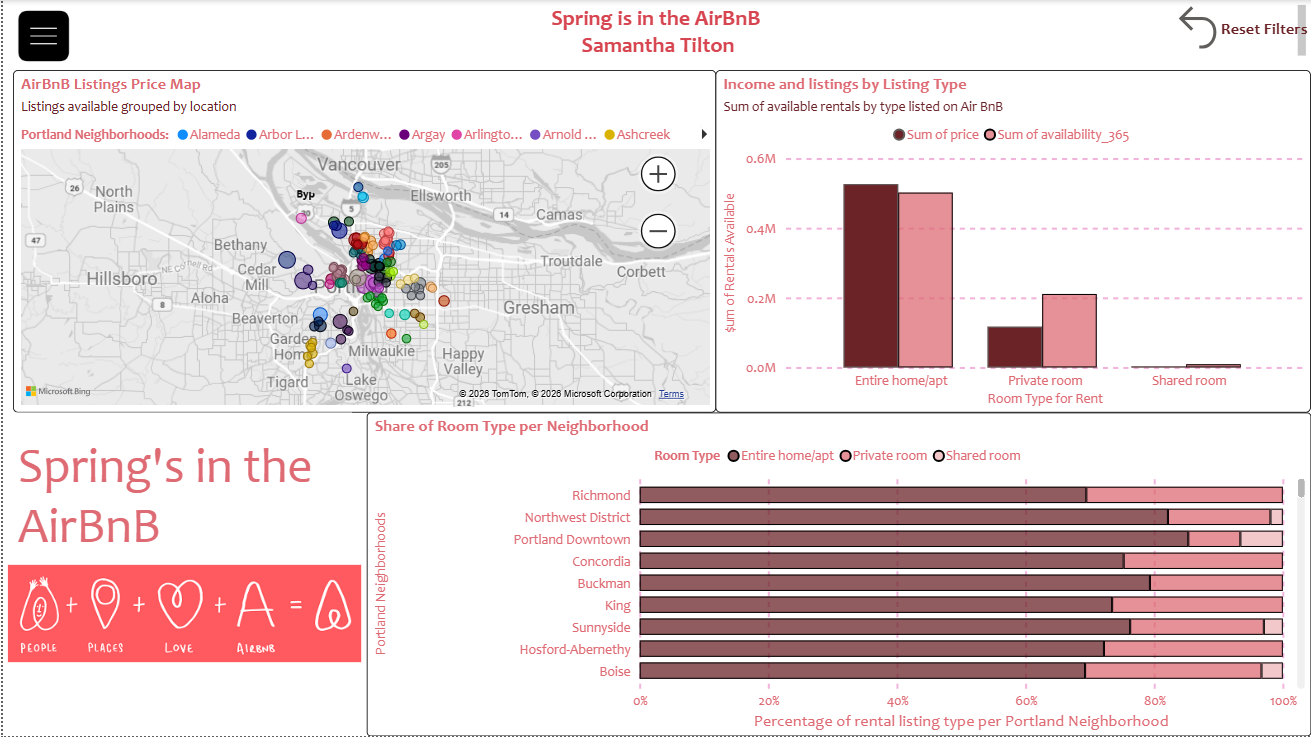

What the dashboard file says about the page in this screenshot:
{"tool":"powerbi","page":{"name":"Home","canvas":[1280,720],"ordinal":0},"visuals":[{"type":"map","title":"AirBnB Listings Price Map","fields":{"Size":["Sum(AirBnB_Listings_March2018.price)"],"Y":["AirBnB_Listings_March2018.latitude"],"X":["AirBnB_Listings_March2018.longitude"],"Series":["AirBnB_Listings_March2018.neighbourhood"]},"box":[9.9,68.1,687.8,334.9],"z":0},{"type":"clusteredColumnChart","title":"Income and listings by Listing Type","fields":{"Category":["AirBnB_Listings_March2018.room_type"],"Y":["Sum(AirBnB_Listings_March2018.price)","Sum(AirBnB_Listings_March2018.availability_365)"]},"box":[697.6,68.1,582.1,334.9],"z":1000},{"type":"hundredPercentStackedBarChart","title":"Share of Room Type per Neighborhood","fields":{"Category":["AirBnB_Listings_March2018.neighbourhood"],"Y":["Sum(AirBnB_Listings_March2018.availability_365)"],"Series":["AirBnB_Listings_March2018.room_type"]},"box":[355.5,403,924.2,317],"z":2000},{"type":"actionButton","title":"North East Filter","box":[5.4,581,285.8,32.2],"z":3000},{"type":"actionButton","title":"North East Filter","box":[5.4,581,285.8,32.2],"z":4000},{"type":"image","title":"AirBB Logo","box":[0,480.9,355.5,239.1],"z":5000},{"type":"textbox","title":"Bottom Title Box","box":[9.9,403,331.3,146],"z":6000},{"type":"textbox","title":"Dashboard Title","box":[9.9,0,1269.9,68.1],"z":7000},{"type":"image","title":"Open Menu Waffle","box":[10.3,1.1,60.5,67.3],"z":8000},{"type":"actionButton","title":"Reset Button","box":[1142,0,138,53.6],"z":14501}]}

Visuals, with their boxes in screenshot pixels (x1, y1, x2, y2), scaled from the page's 1280x720 canvas onto the 1311x737 screenshot:
"AirBnB Listings Price Map" map: bbox=(10, 70, 715, 413)
"Income and listings by Listing Type" clusteredColumnChart: bbox=(714, 70, 1310, 413)
"Share of Room Type per Neighborhood" hundredPercentStackedBarChart: bbox=(364, 413, 1310, 736)
"North East Filter" actionButton: bbox=(6, 595, 298, 628)
"North East Filter" actionButton: bbox=(6, 595, 298, 628)
"AirBB Logo" image: bbox=(0, 492, 364, 736)
"Bottom Title Box" textbox: bbox=(10, 413, 349, 562)
"Dashboard Title" textbox: bbox=(10, 0, 1310, 70)
"Open Menu Waffle" image: bbox=(11, 1, 73, 70)
"Reset Button" actionButton: bbox=(1170, 0, 1310, 55)
